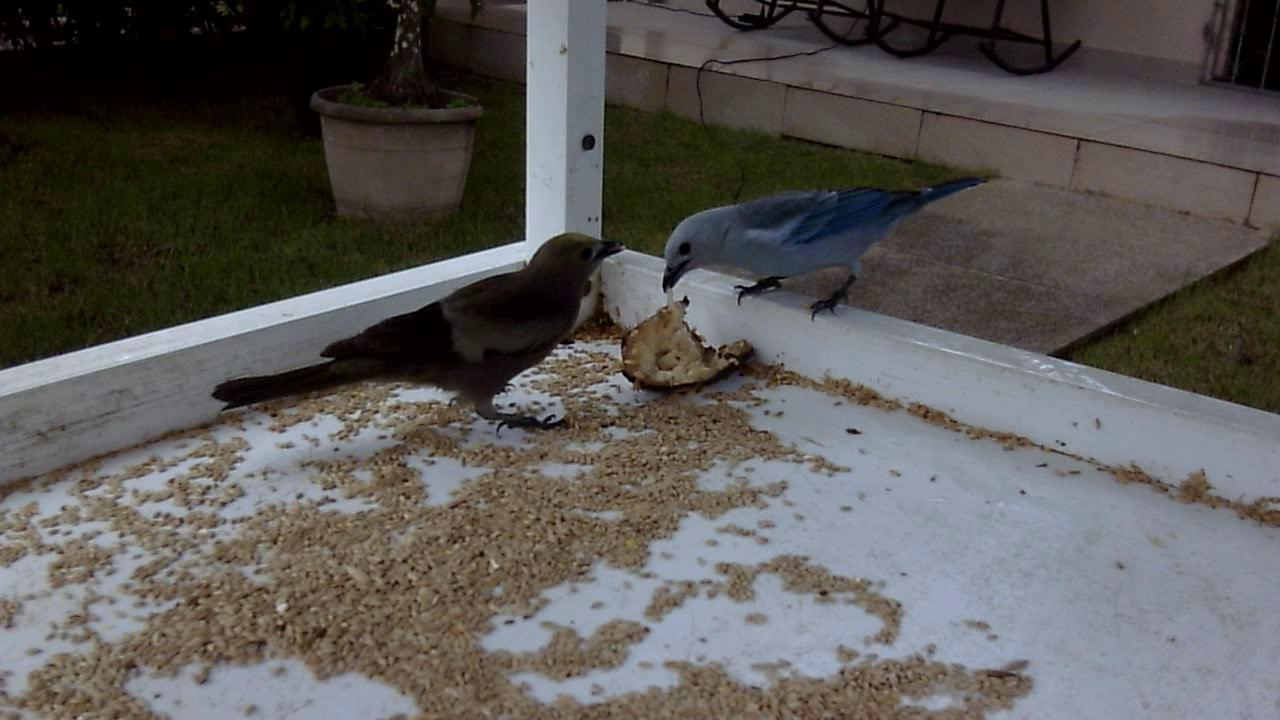sanhaco_da_amazonia: (657, 152, 996, 335)
sanhaco_do_coqueiro: (208, 226, 630, 450)
